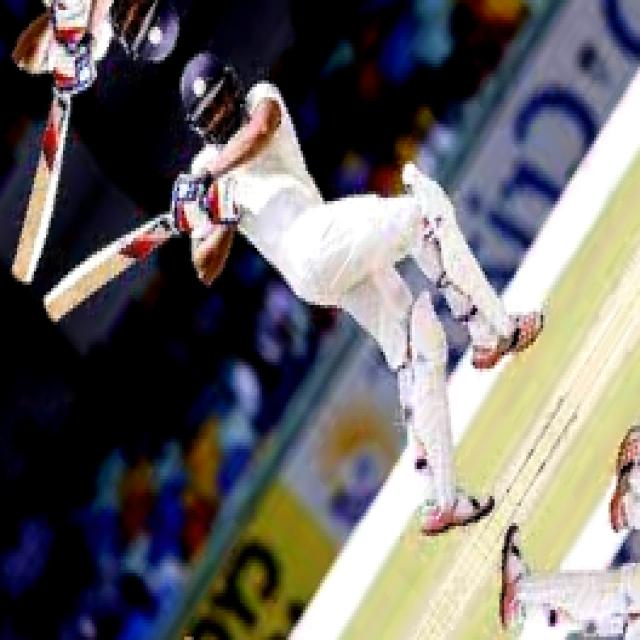toe: (44, 290, 68, 329)
